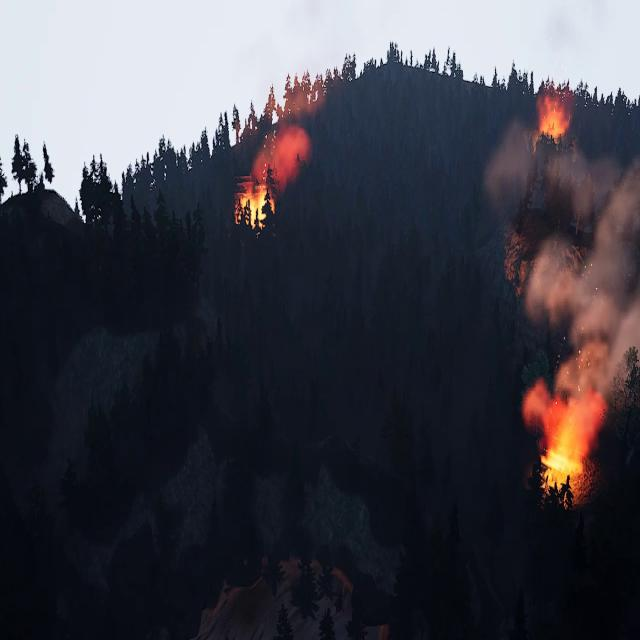fire: (524, 378, 608, 485), (236, 183, 274, 226), (537, 91, 567, 139)
smoke: (483, 123, 639, 454), (253, 71, 326, 190)
